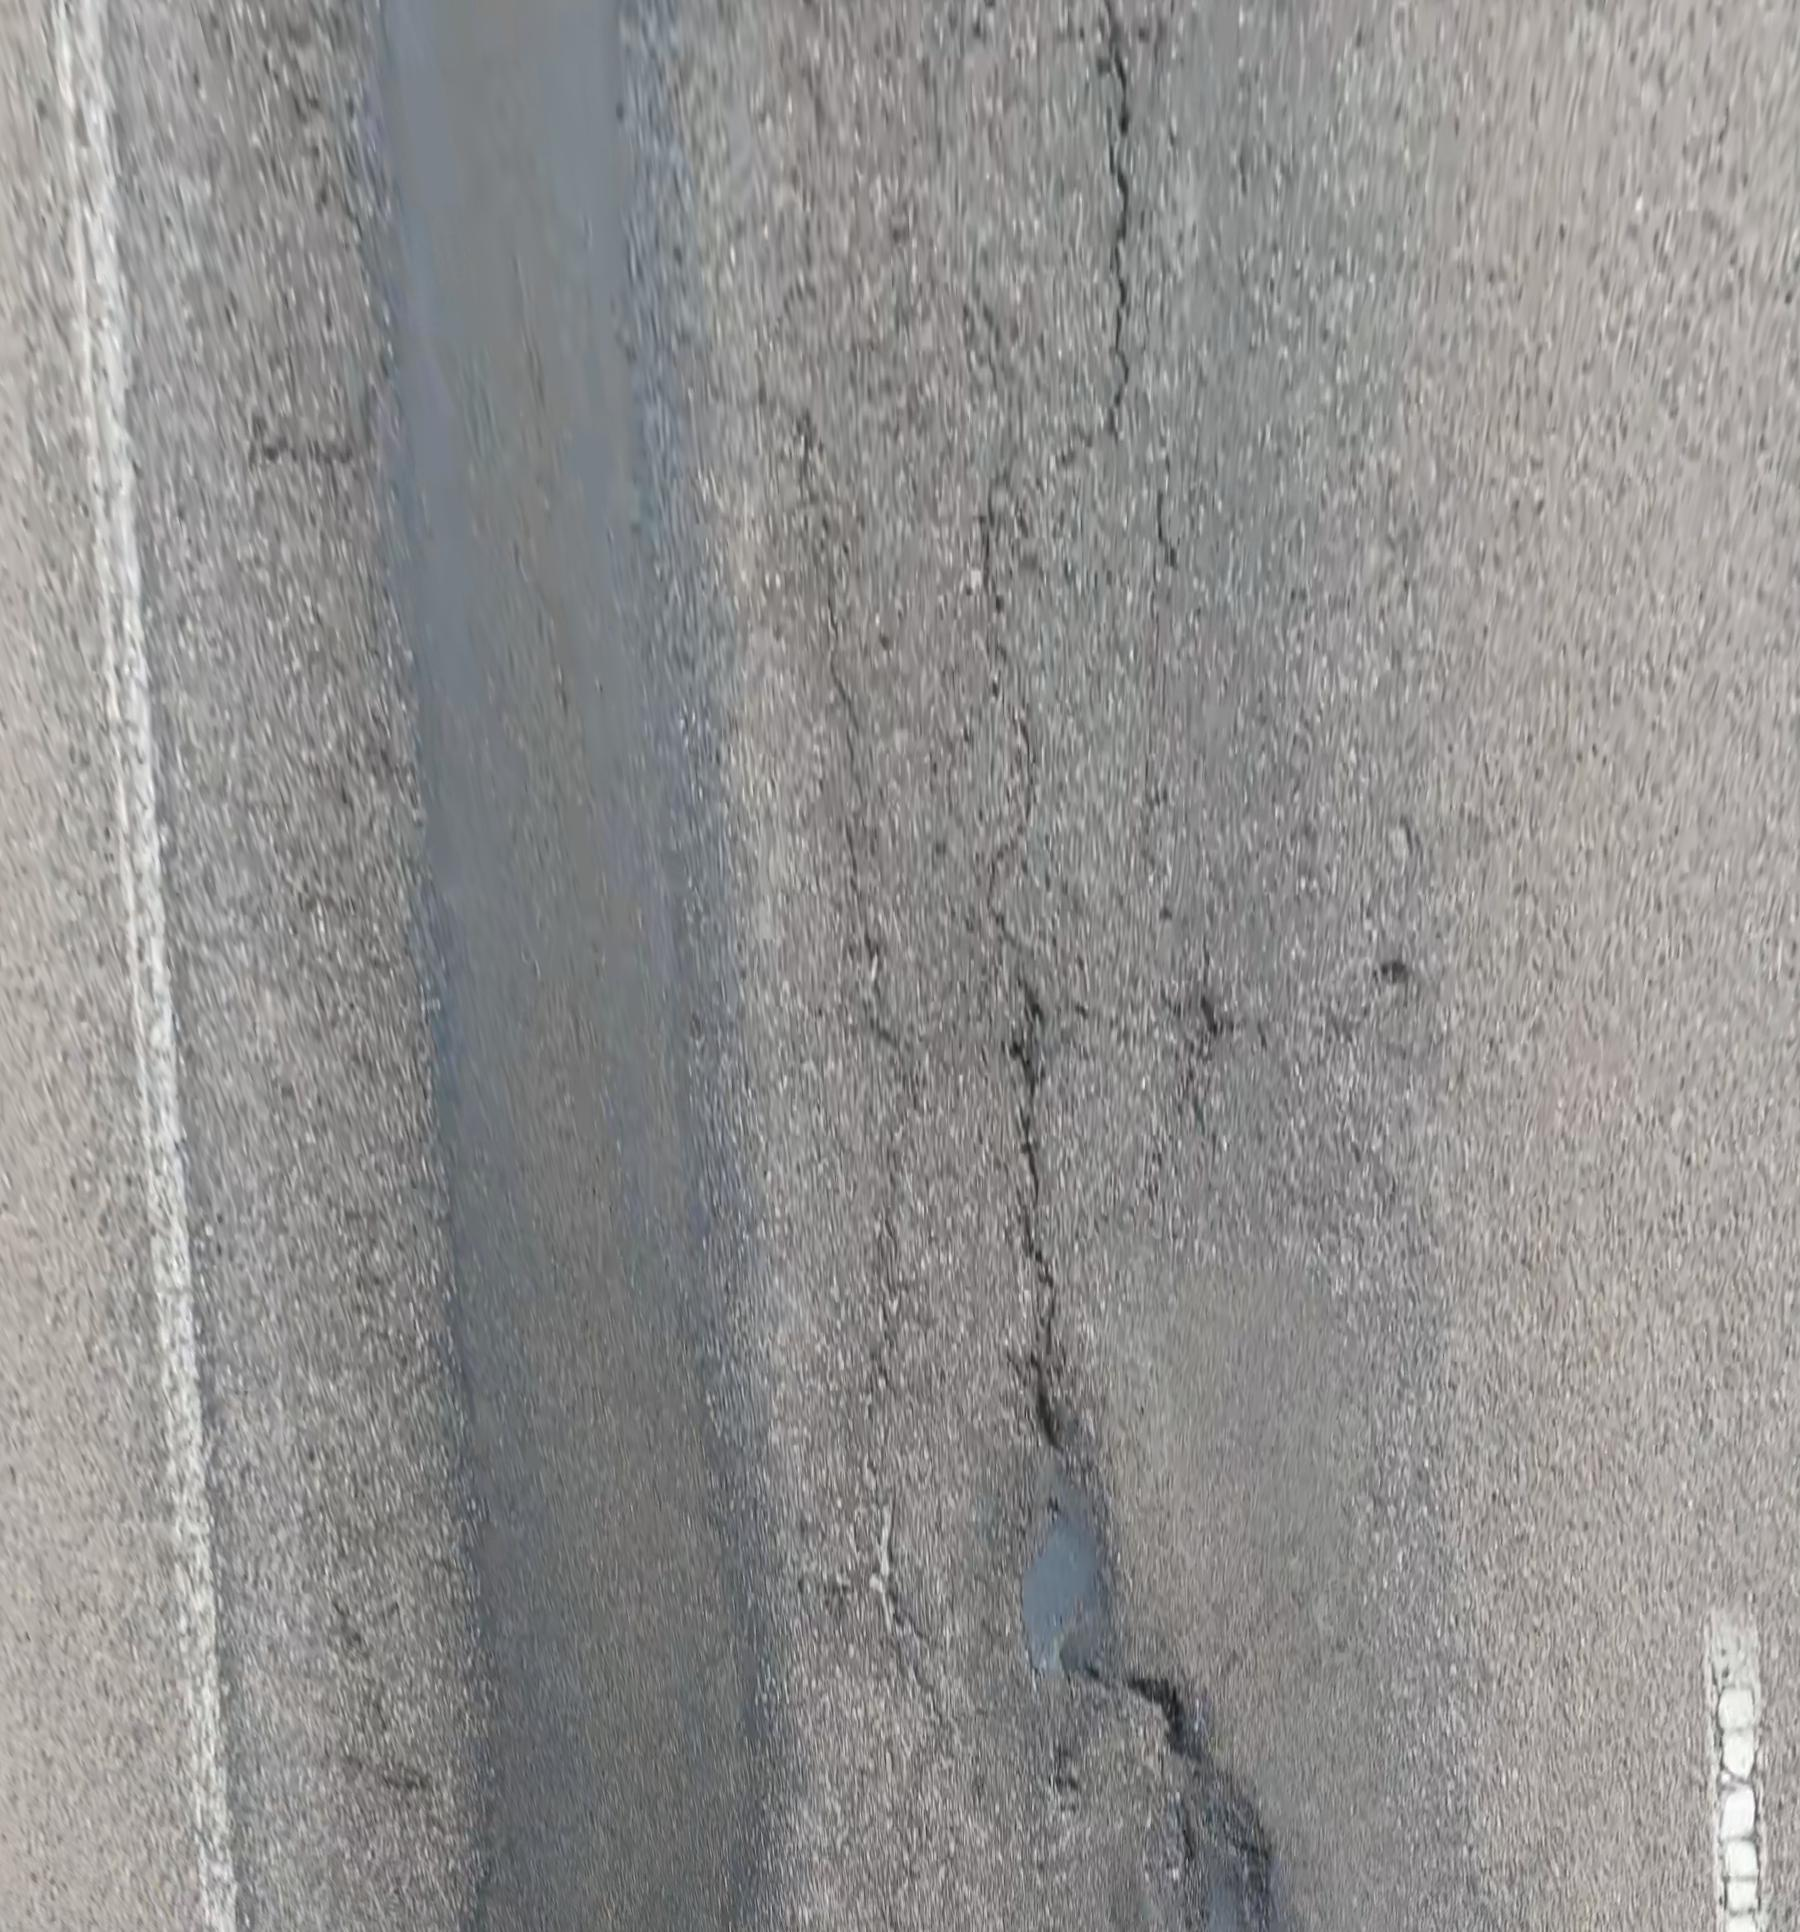pothole_patch_good: (1023, 1475, 1115, 1680)
